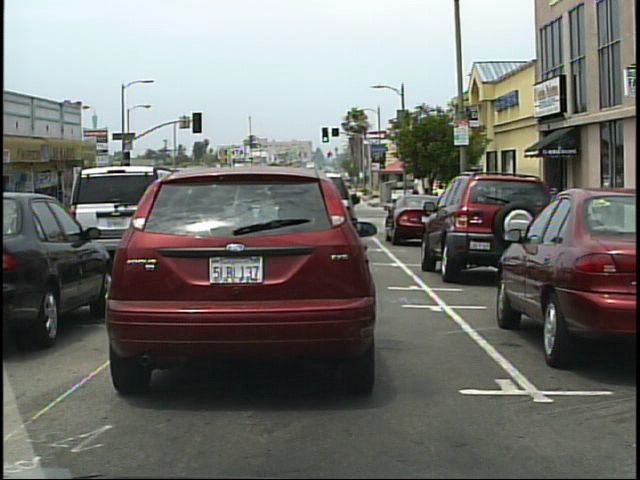person: (406, 188, 418, 221), (413, 188, 423, 220)
